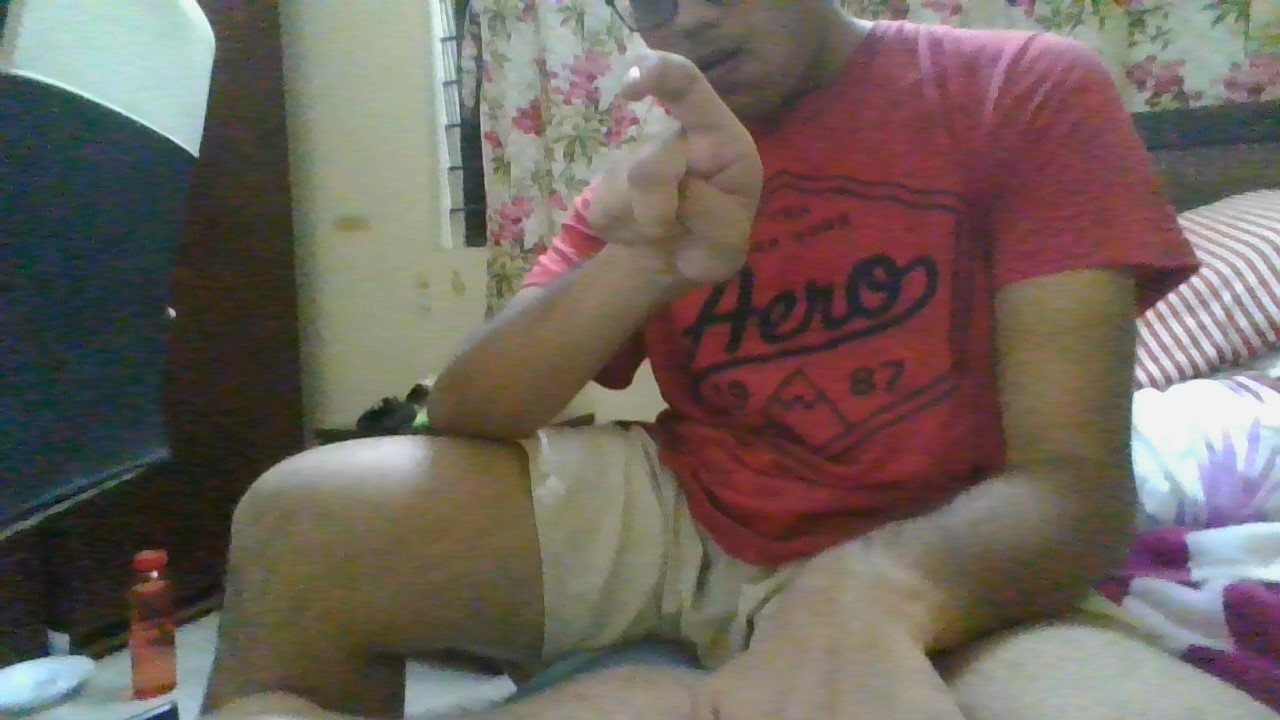x: (579, 42, 768, 288)
